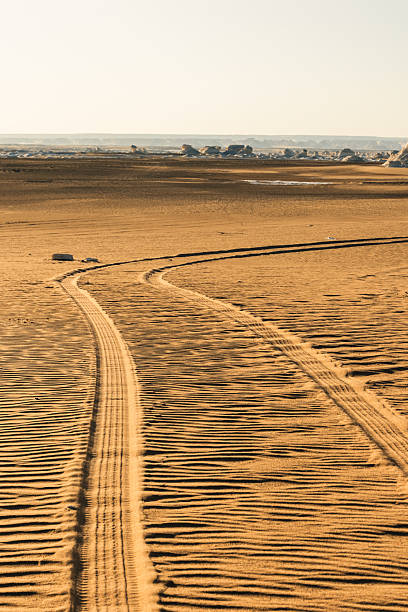vehicle_track: (58, 237, 407, 610), (142, 260, 407, 474), (61, 276, 155, 611)
